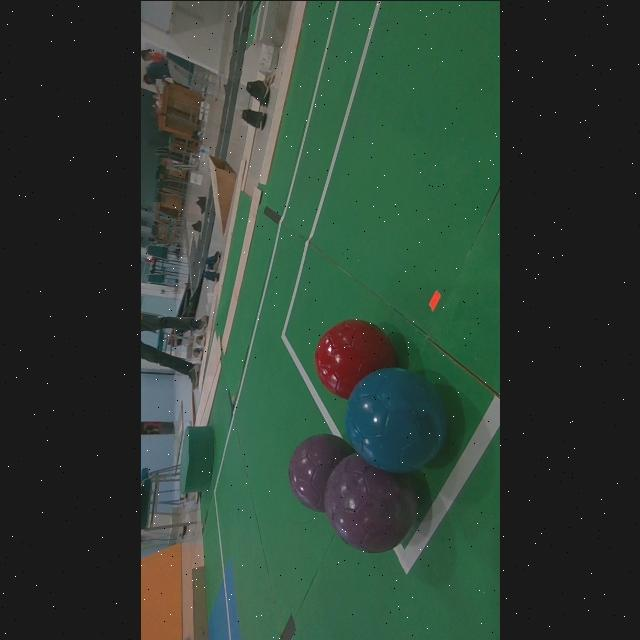B: (345, 367, 447, 472)
P: (324, 454, 417, 552), (287, 433, 352, 511)
R: (314, 318, 396, 398)
